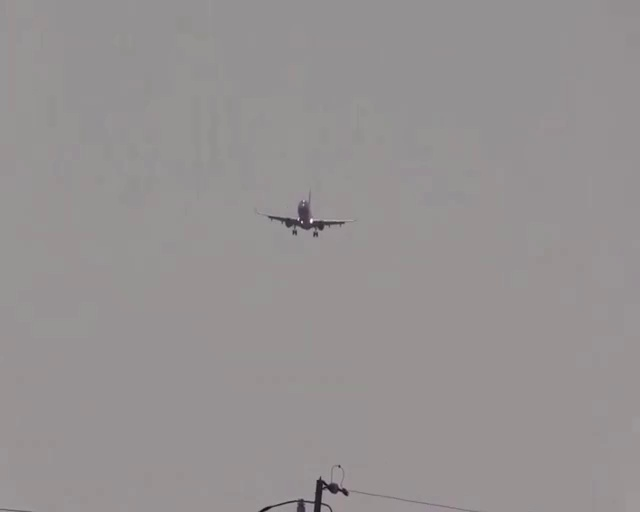AIRPLANE: (254, 188, 356, 237)
